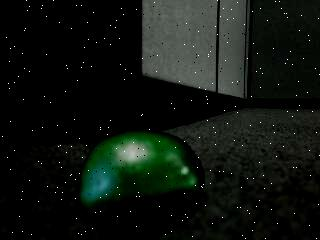Lime: (76, 131, 206, 240)
